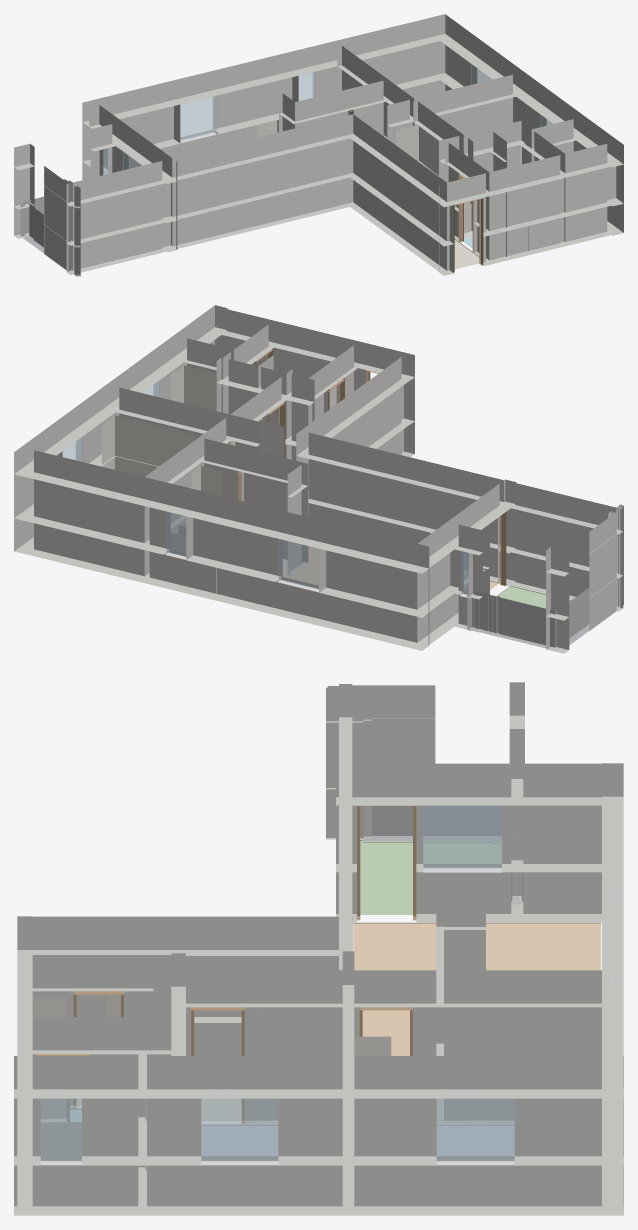
3 views of the same model, one above another, from view 1: azimuth 30°, elevation 25°; view 2: azimuth 150°, elevation 25°; view 3: azimuth 270°, elevation 25° (orthographic). The views are drawn at different scales.
Parts seen in each view (by area): view 1: walls, window_2, furniture_2_closet, railings, floor_2_Entry, window_4, door_5; view 2: walls, railings, furniture_1_closet, window_2, furniture_3_closet, window_4, furniture_2_closet, furniture_0_closet, floor_0_Living_Room, floor_4_Outdoor, door_6; view 3: walls, floor_0_Living_Room, floor_4_Outdoor, window_3, window_0, window_1, railings, window_11, floor_3_Bed_Room, floor_5_Bed_Room, furniture_18_sauna_bench, door_6 (+3 smaller).
Boxes of the visible parts, bbox=[...] form: walls: bbox=[14, 14, 623, 276]; window_2: bbox=[180, 93, 216, 140]; furniture_2_closet: bbox=[396, 125, 438, 175]; railings: bbox=[20, 196, 43, 253]; floor_2_Entry: bbox=[454, 239, 479, 269]; window_4: bbox=[298, 71, 315, 100]; door_5: bbox=[454, 198, 483, 272]; walls: bbox=[14, 305, 623, 653]; railings: bbox=[467, 588, 589, 650]; furniture_1_closet: bbox=[102, 415, 194, 476]; window_2: bbox=[278, 539, 322, 589]; furniture_3_closet: bbox=[171, 365, 216, 411]; window_4: bbox=[166, 511, 186, 556]; furniture_2_closet: bbox=[232, 420, 284, 457]; furniture_0_closet: bbox=[191, 466, 221, 495]; floor_0_Living_Room: bbox=[290, 546, 497, 589]; floor_4_Outdoor: bbox=[496, 585, 570, 608]; door_6: bbox=[500, 512, 506, 586]; walls: bbox=[14, 682, 623, 1215]; floor_0_Living_Room: bbox=[353, 922, 600, 1055]; floor_4_Outdoor: bbox=[360, 840, 501, 914]; window_3: bbox=[423, 801, 501, 868]; window_0: bbox=[436, 1098, 514, 1161]; window_1: bbox=[201, 1098, 278, 1161]; railings: bbox=[361, 806, 523, 904]; window_11: bbox=[40, 1098, 81, 1161]; floor_3_Bed_Room: bbox=[437, 1125, 514, 1155]; floor_5_Bed_Room: bbox=[201, 1125, 277, 1155]; furniture_18_sauna_bench: bbox=[41, 1122, 81, 1155]; door_6: bbox=[357, 805, 416, 920].
Bounding box in the file's own units: 14.75 × 2.72 × 9.93.
